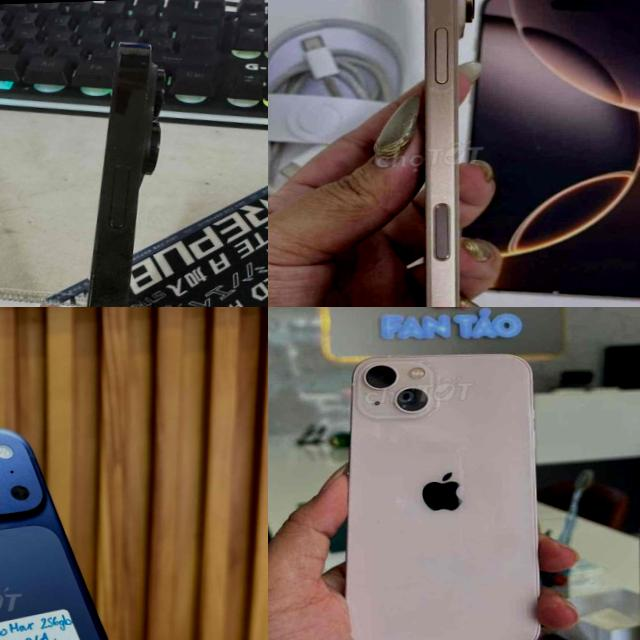gen_12_13: (343, 348, 548, 640)
gen_14: (12, 24, 201, 307)
gen_16: (361, 0, 500, 307)
gen_17: (0, 414, 161, 640)
scratch: (113, 42, 179, 118)
